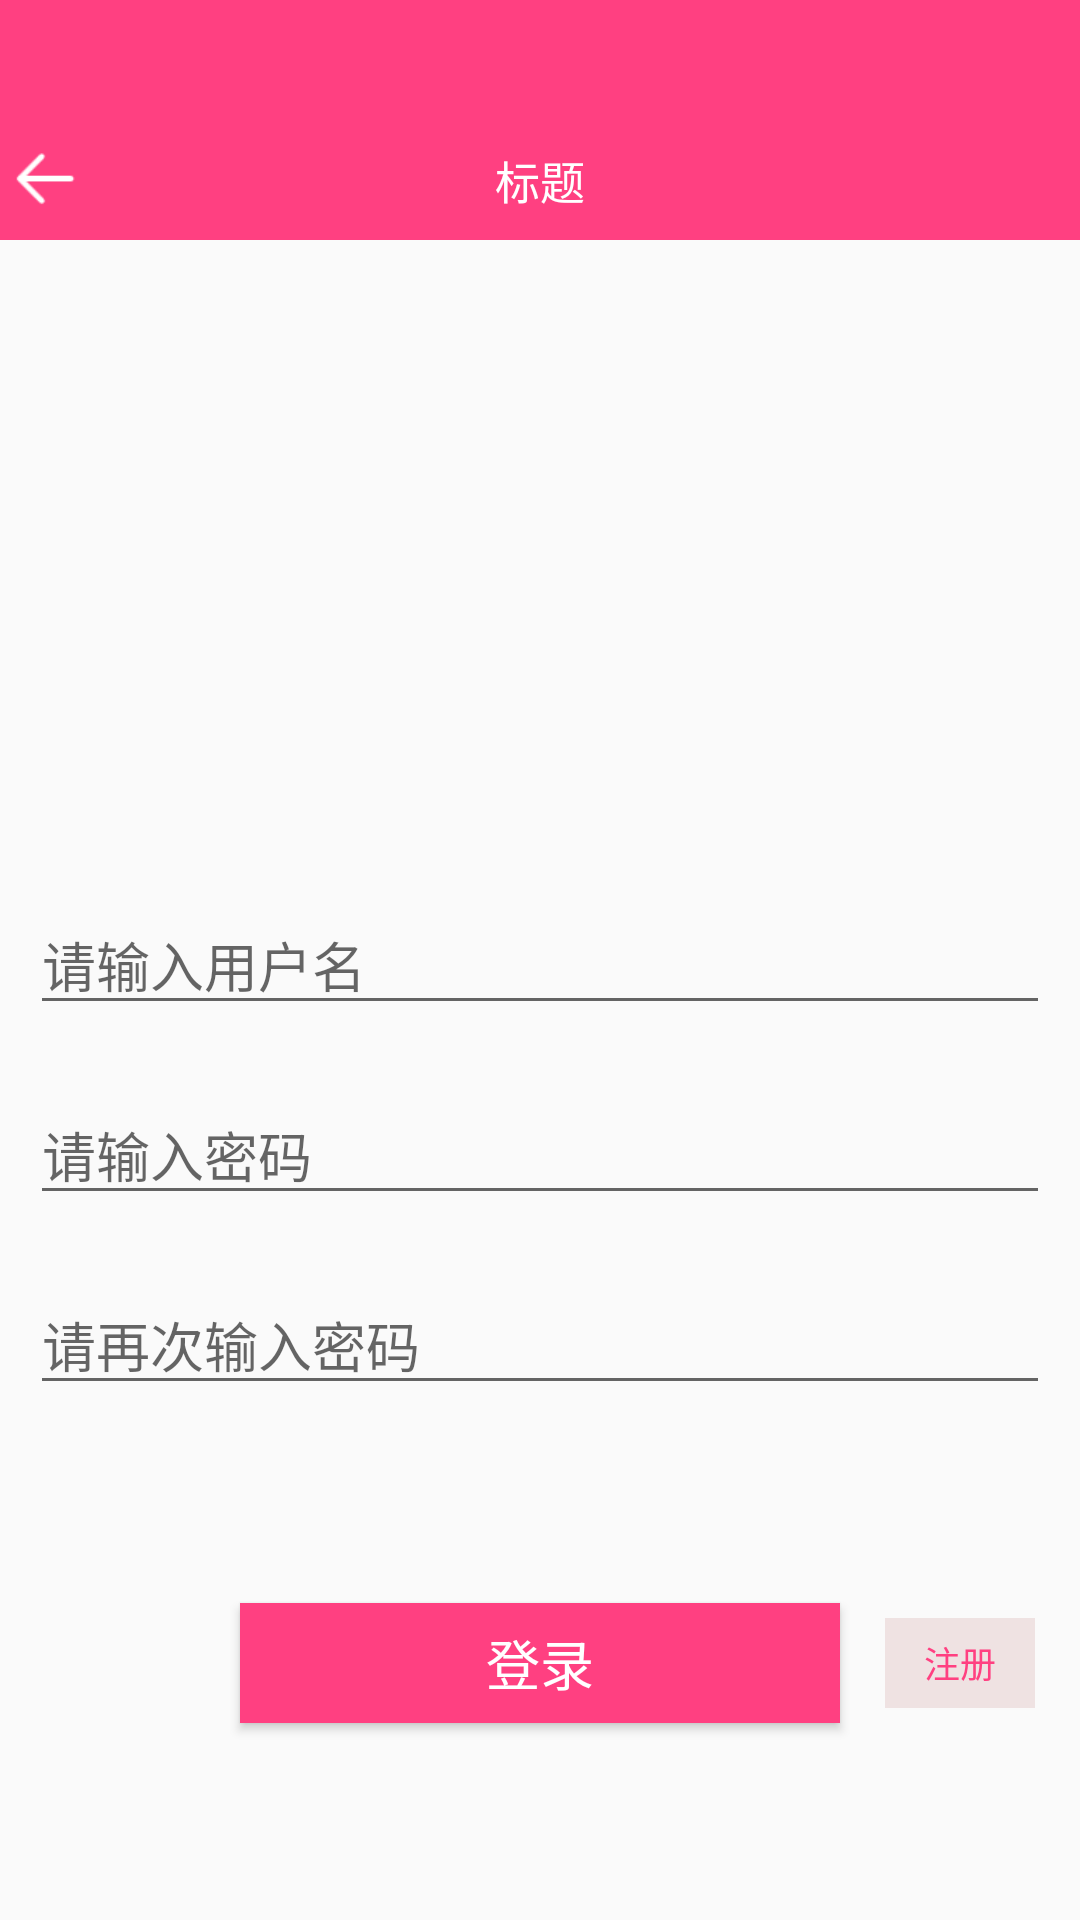

Icon bounding boxes for this 1080px×1920px phone screenshot, format {"x1": x1, "y1": y1, "x2": x2, "y2": y2}:
back: {"x1": 16, "y1": 153, "x2": 74, "y2": 204}
